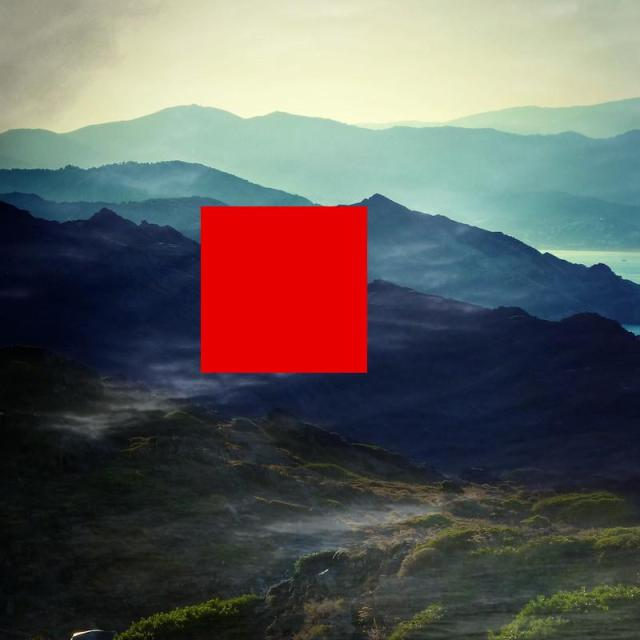RedSquare: (194, 197, 372, 380)
